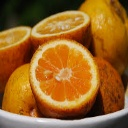orange: (30, 38, 101, 114)
